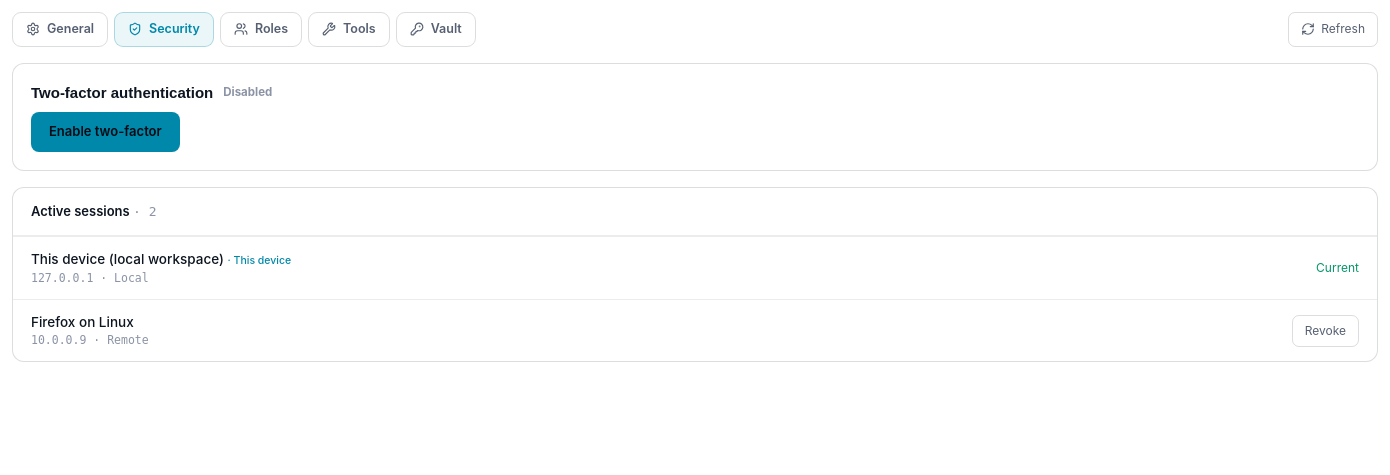
Test case: SettingsPanel — section switch + panels › 2FA flow: enable → enter code → activate → backup codes shown
The width and height of the screenshot is (1390, 475).
Expected: the text "Two-factor authentication" is shown, [31,82,213,104]
Note: Step 0 → enroll
Click the button "Enable two-factor" at (105, 132), box [31,112,180,152]
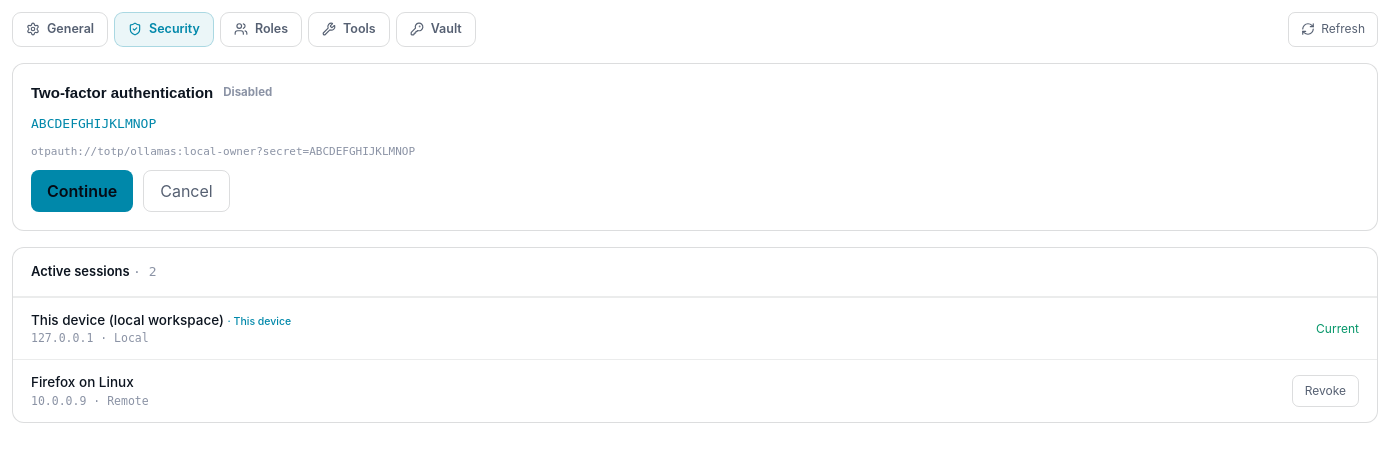
Result: the text "ABCDEFGHIJKLMNOP" is shown at [31,116,156,131]
Note: Step 1 → continue to verify
Click the button "Continue" at (82, 191), box [31,170,133,212]
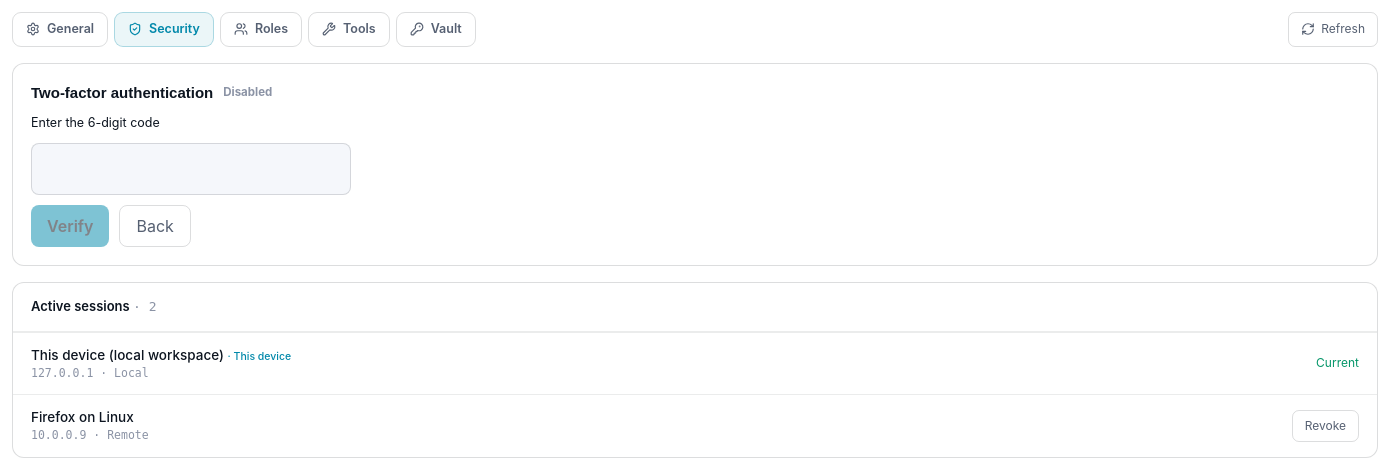
Type "123456" into the field labelled "Enter the 6-digit code" at (191, 169), box [31,143,351,195]
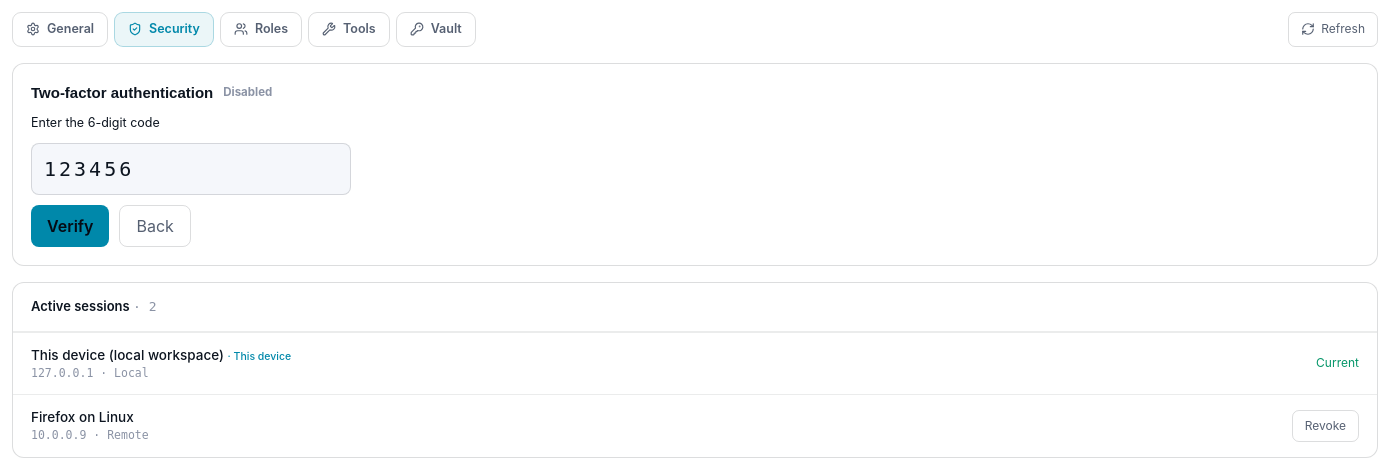
Click the button "Verify" at (70, 226), box [31,205,110,247]
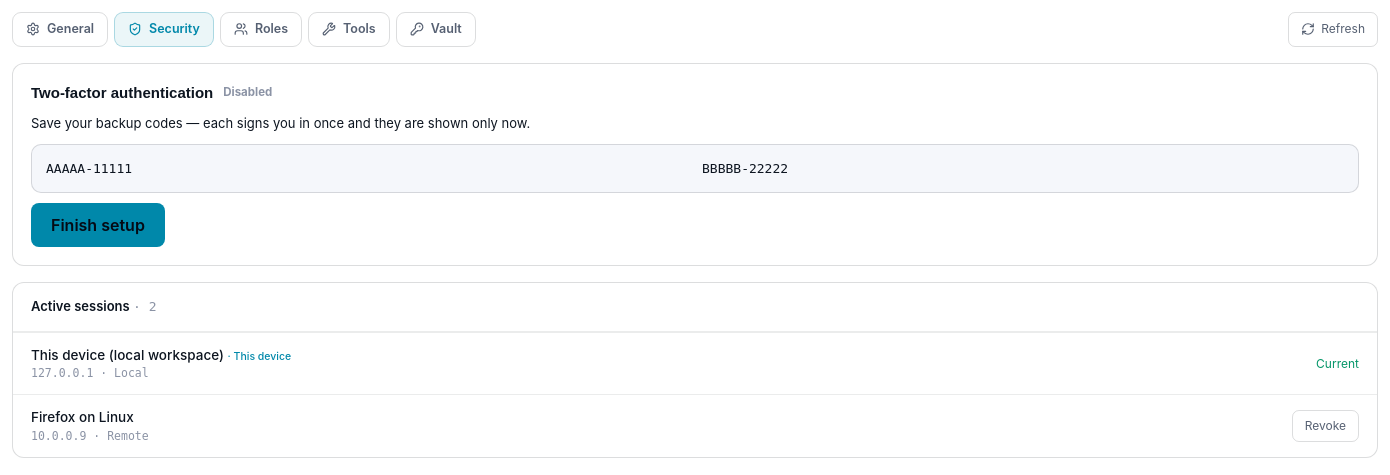
Result: the element with test id "backup-codes" is shown at [31,144,1359,193]
Result: the text "AAAAA-11111" is shown at [46,161,132,176]
Result: the text "BBBBB-22222" is shown at [702,161,788,176]
